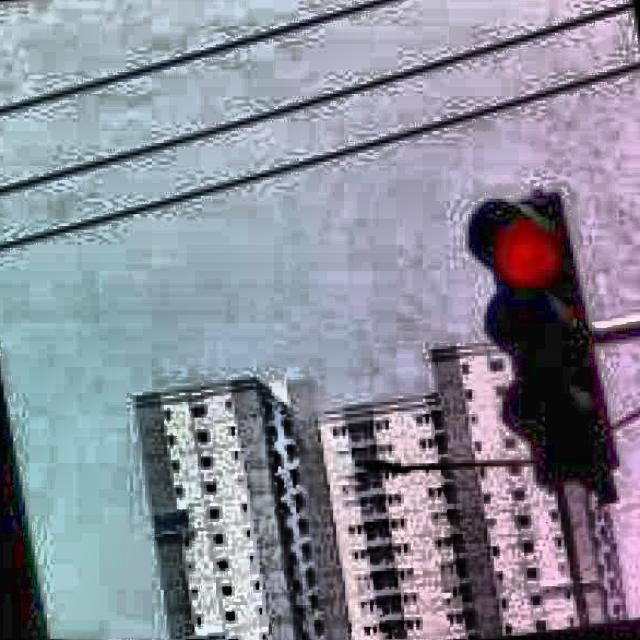red: (475, 180, 573, 484)
